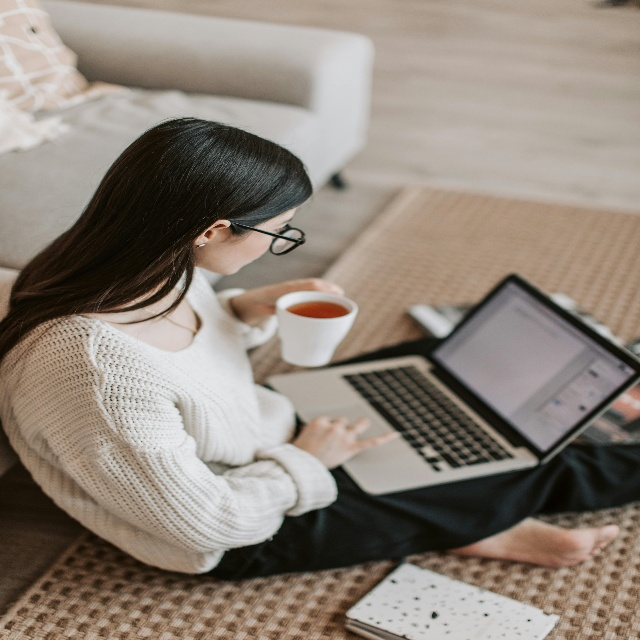Gafas: (230, 218, 307, 257)
Sin_guantes: (292, 413, 403, 470), (231, 277, 345, 323)
